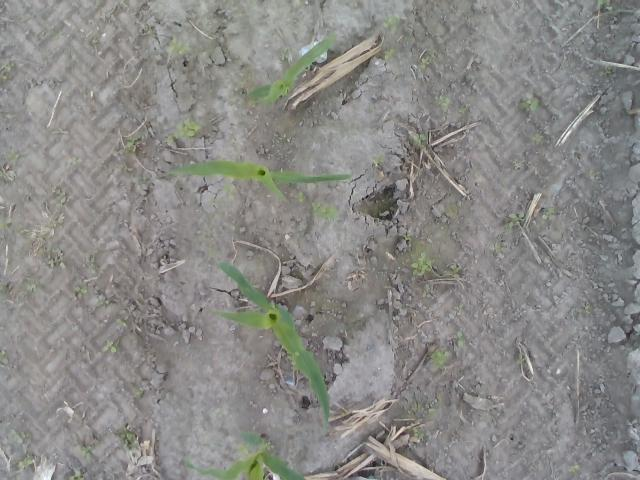Maize: (214, 258, 331, 434), (165, 160, 354, 206), (247, 30, 336, 107), (180, 431, 304, 480)
Weeds: (38, 241, 64, 268), (406, 253, 433, 276), (116, 426, 137, 455), (176, 119, 202, 139), (166, 38, 194, 56), (309, 201, 335, 220), (428, 349, 450, 370), (7, 430, 30, 449), (502, 212, 528, 228), (519, 95, 541, 113), (413, 402, 436, 417), (433, 94, 453, 110), (0, 62, 15, 82), (384, 15, 401, 32), (540, 206, 556, 224), (489, 242, 511, 255), (598, 65, 618, 79), (80, 447, 96, 464), (14, 456, 34, 468), (0, 216, 15, 232), (448, 263, 462, 279), (383, 48, 397, 64), (239, 72, 255, 86), (102, 339, 119, 352), (73, 286, 88, 300), (410, 426, 426, 439), (126, 137, 138, 154), (54, 191, 66, 208), (418, 56, 432, 70), (412, 133, 428, 145), (416, 286, 431, 298), (85, 255, 96, 270), (0, 350, 9, 368), (456, 328, 465, 346), (279, 48, 289, 64), (532, 132, 544, 144), (373, 154, 385, 166), (578, 305, 592, 315), (164, 136, 177, 146), (22, 271, 32, 284), (586, 168, 600, 177), (297, 190, 306, 204), (568, 464, 580, 474), (68, 156, 80, 166), (134, 175, 146, 185), (7, 150, 17, 161), (116, 318, 128, 327), (596, 0, 608, 9), (264, 440, 274, 450), (135, 387, 144, 398), (400, 234, 412, 242), (68, 472, 80, 480), (456, 304, 465, 313), (239, 444, 249, 452), (458, 105, 467, 113), (224, 184, 233, 192), (96, 300, 110, 305), (207, 198, 214, 205), (0, 169, 4, 177)
